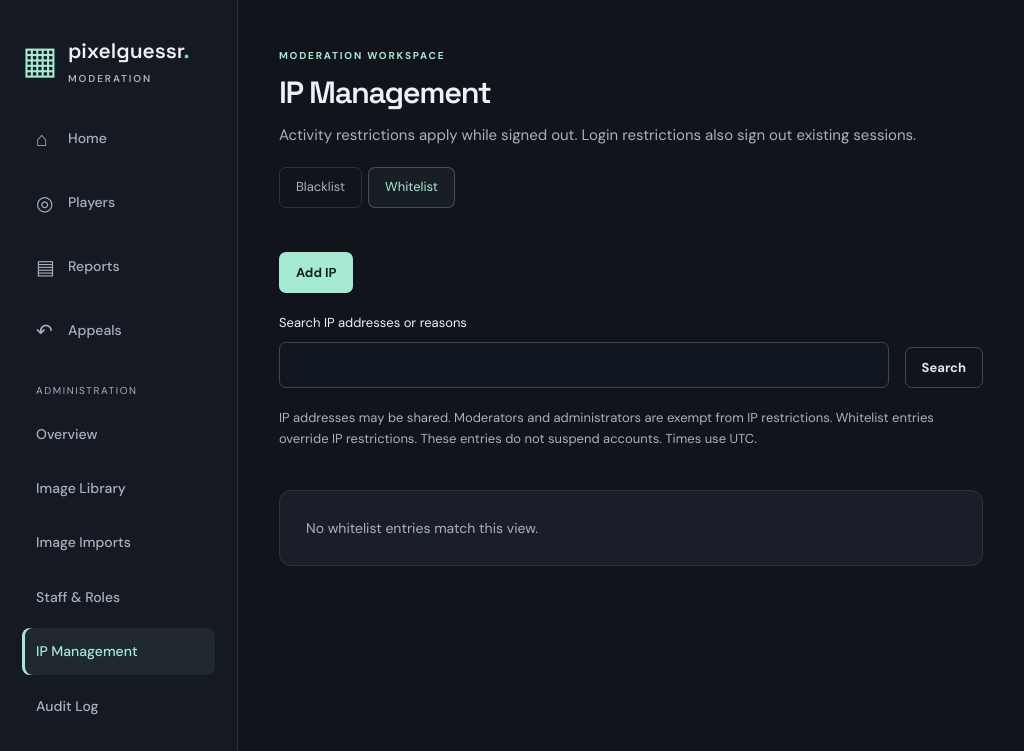
adds a whitelist entry without activity or expiration controls and retains values on duplicate errors
Click the button "Add IP" at {"x": 316, "y": 272}, box [279,252,354,293]
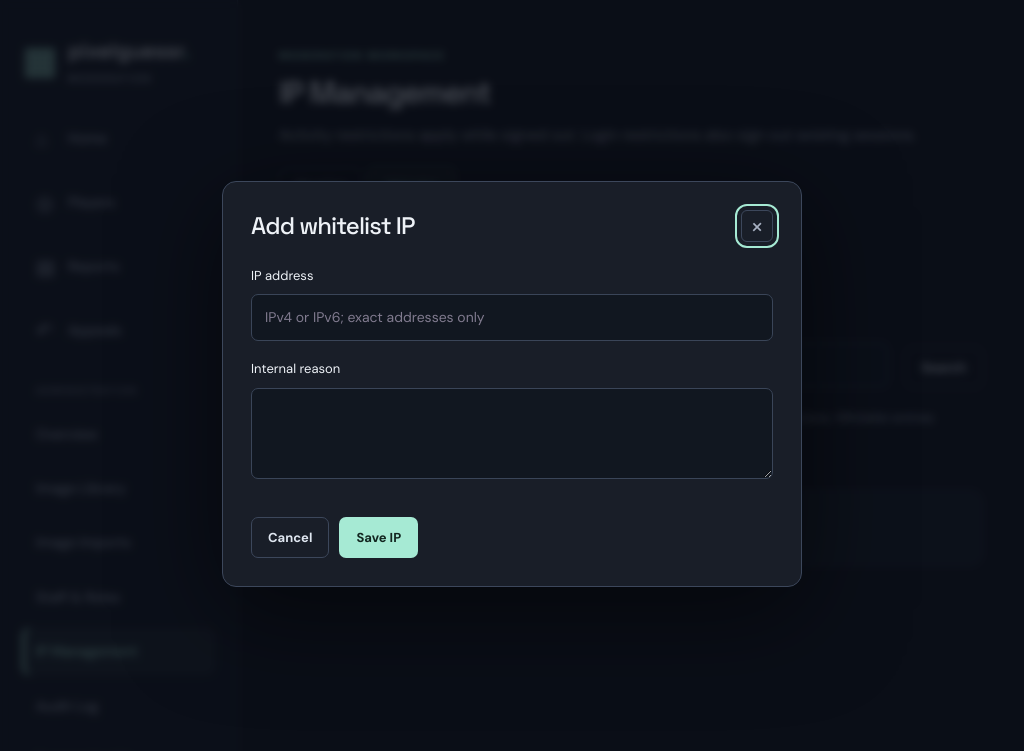
Type "192.0.2.4" into the field labelled "IP address" at {"x": 512, "y": 318}, box [251,294,773,341]
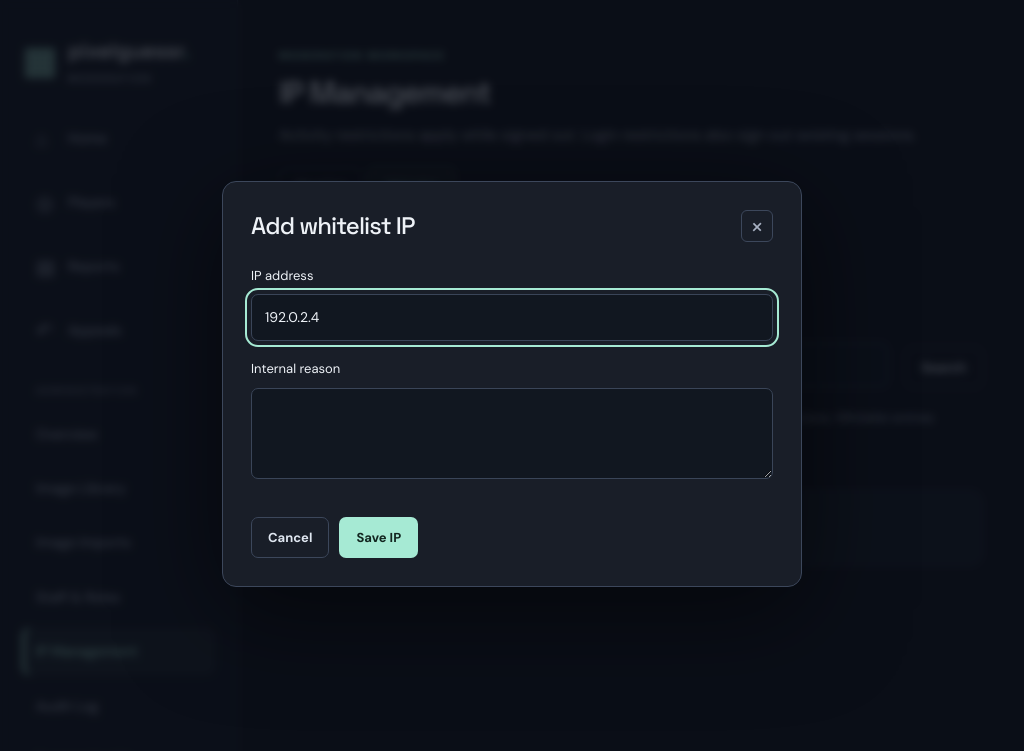
Type "Known shared network" into the text box labelled "Internal reason" at {"x": 512, "y": 433}, box [251,388,773,479]
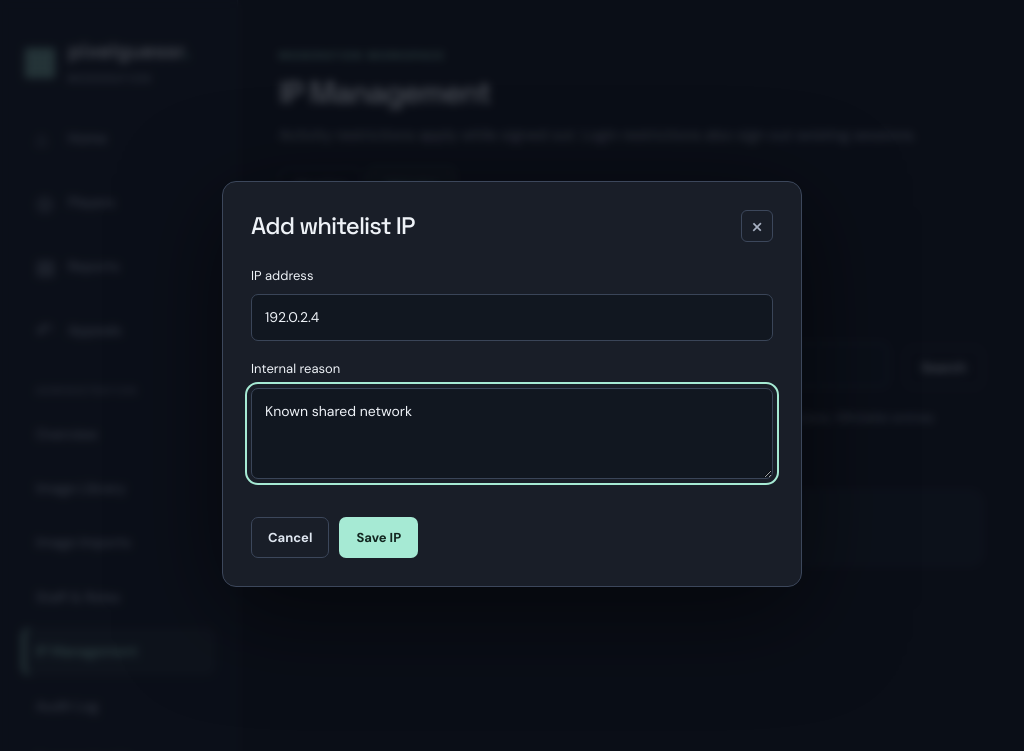
Click the button "Save IP" at {"x": 379, "y": 538}, box [339,517,418,558]
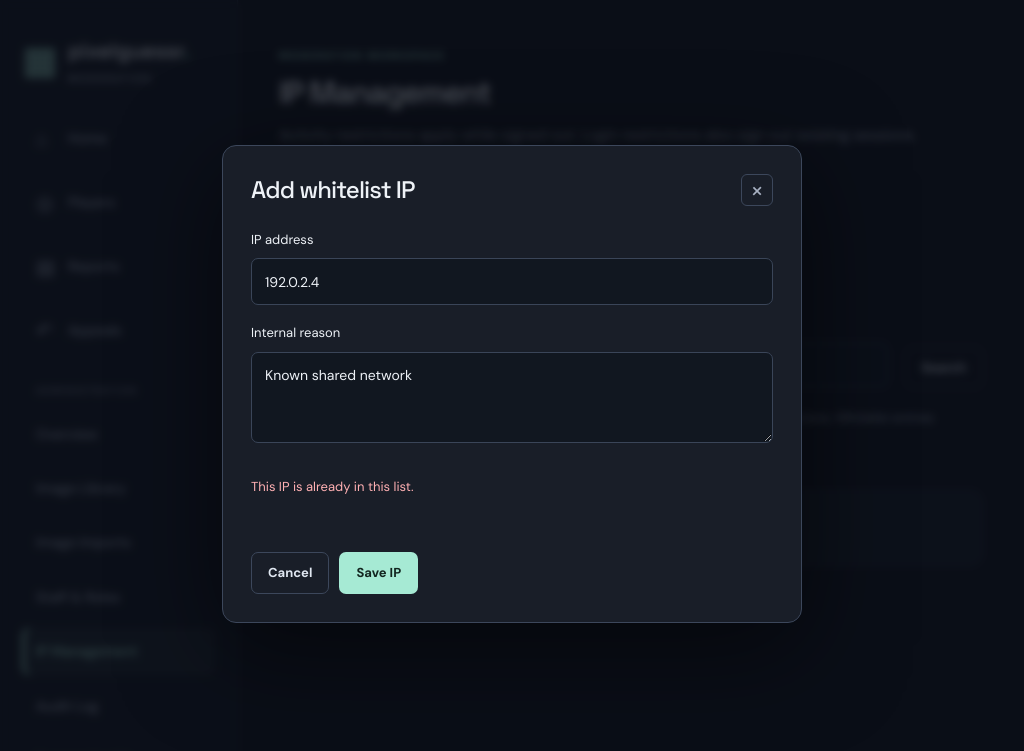
Expected: the text "This IP is already in this list." is shown, [251,478,414,495]
Click the button "Save IP" at {"x": 379, "y": 573}, box [339,552,418,594]
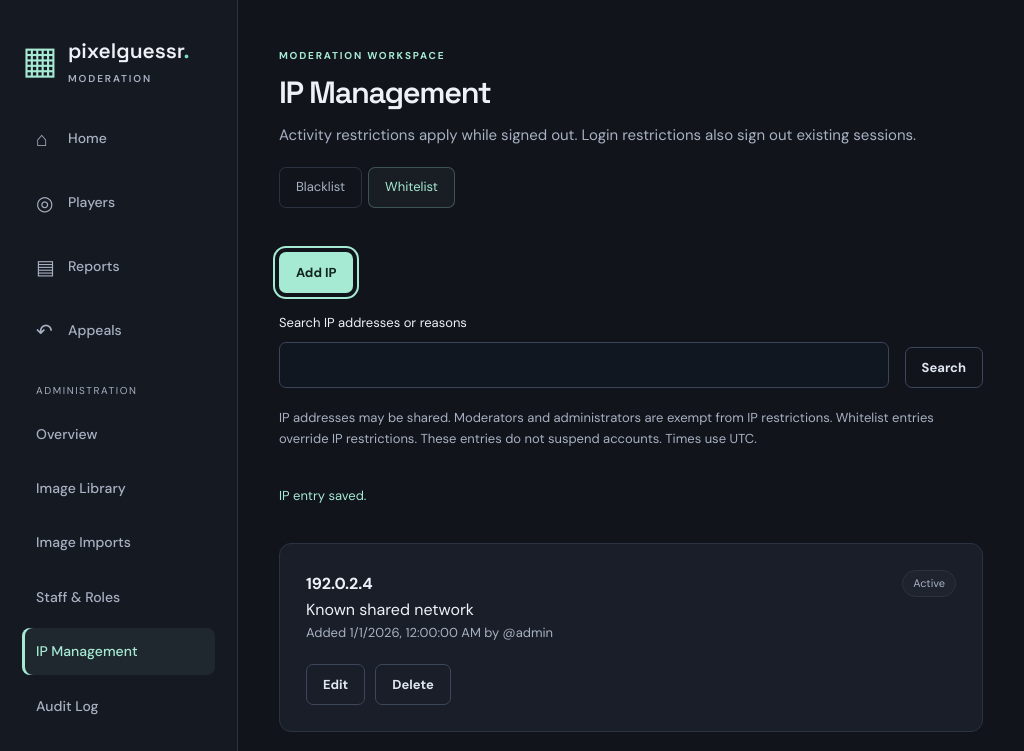
Expected: the text "IP entry saved." is shown, [279,487,366,504]
